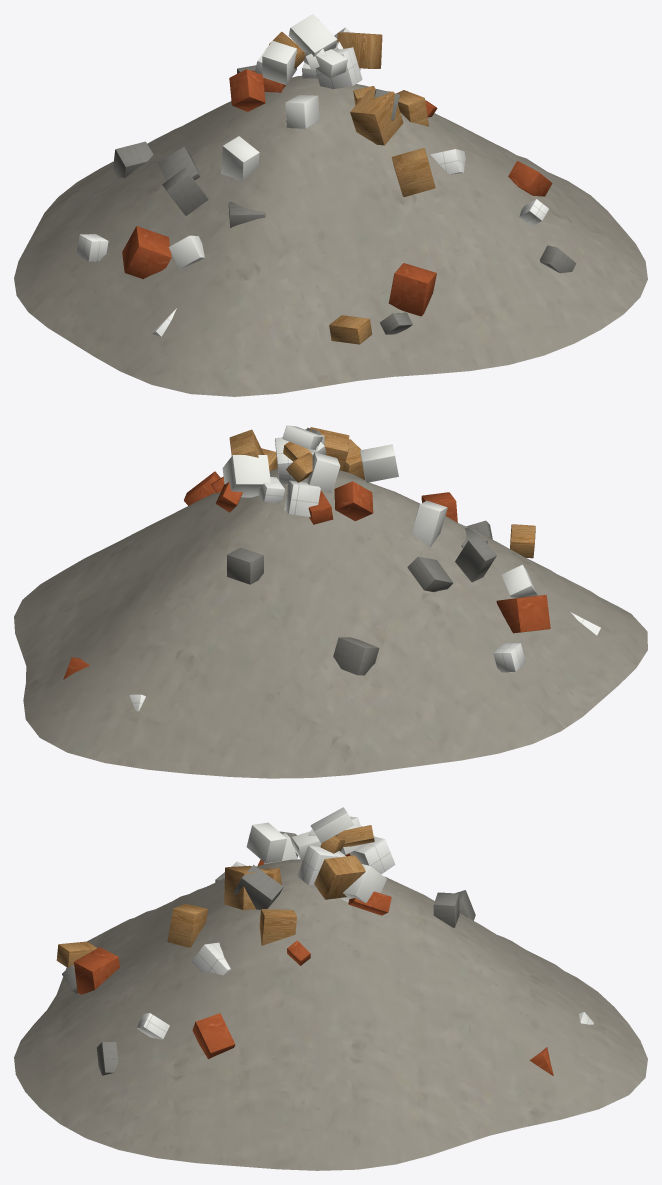
The model's file is LIM-ENT-001_lod1.glb.
3 renders of one model, top to bottom at view 1: azimuth 30°, elevation 25°; view 2: azimuth 150°, elevation 25°; view 3: azimuth 270°, elevation 25°, orthographic.
Parts seen in each view (by area): view 1: LIM-ENT-001_monte, LIM-ENT-001_caco32, LIM-ENT-001_caco21, LIM-ENT-001_caco31, LIM-ENT-001_caco22, LIM-ENT-001_caco14, LIM-ENT-001_caco4, LIM-ENT-001_caco1, LIM-ENT-001_caco39, LIM-ENT-001_caco12, LIM-ENT-001_caco15, LIM-ENT-001_caco19 (+12 smaller); view 2: LIM-ENT-001_monte, LIM-ENT-001_caco34, LIM-ENT-001_caco21, LIM-ENT-001_caco10, LIM-ENT-001_caco1, LIM-ENT-001_caco15, LIM-ENT-001_caco19, LIM-ENT-001_caco14, LIM-ENT-001_caco25, LIM-ENT-001_caco5, LIM-ENT-001_caco13, LIM-ENT-001_caco39 (+12 smaller); view 3: LIM-ENT-001_monte, LIM-ENT-001_caco12, LIM-ENT-001_caco31, LIM-ENT-001_caco22, LIM-ENT-001_caco16, LIM-ENT-001_caco19, LIM-ENT-001_caco0, LIM-ENT-001_caco2, LIM-ENT-001_caco32, LIM-ENT-001_caco13, LIM-ENT-001_caco34, LIM-ENT-001_caco38 (+8 smaller).
Part boxes in pixels (x1,y1,x2,y2): LIM-ENT-001_monte: (14,75,647,396); LIM-ENT-001_caco32: (350,89,403,145); LIM-ENT-001_caco21: (122,226,171,279); LIM-ENT-001_caco31: (388,263,436,316); LIM-ENT-001_caco22: (391,148,435,196); LIM-ENT-001_caco14: (221,136,259,181); LIM-ENT-001_caco4: (288,14,337,56); LIM-ENT-001_caco1: (229,69,265,111); LIM-ENT-001_caco39: (262,40,296,85); LIM-ENT-001_caco12: (337,32,382,68); LIM-ENT-001_caco15: (162,168,208,215); LIM-ENT-001_caco19: (285,95,319,128); LIM-ENT-001_monte: (14,469,647,778); LIM-ENT-001_caco34: (222,455,270,497); LIM-ENT-001_caco21: (496,595,550,633); LIM-ENT-001_caco10: (333,637,379,675); LIM-ENT-001_caco1: (334,481,373,521); LIM-ENT-001_caco15: (455,535,496,582); LIM-ENT-001_caco19: (360,444,398,482); LIM-ENT-001_caco14: (412,500,447,547); LIM-ENT-001_caco25: (227,547,263,584); LIM-ENT-001_caco5: (407,556,453,591); LIM-ENT-001_caco13: (284,480,320,517); LIM-ENT-001_caco39: (305,452,340,493); LIM-ENT-001_monte: (14,859,647,1170); LIM-ENT-001_caco12: (314,855,365,899); LIM-ENT-001_caco31: (74,947,119,994); LIM-ENT-001_caco22: (167,903,208,947); LIM-ENT-001_caco16: (192,1013,235,1059); LIM-ENT-001_caco19: (246,822,286,863); LIM-ENT-001_caco0: (233,864,283,909); LIM-ENT-001_caco2: (259,909,296,945); LIM-ENT-001_caco32: (224,865,269,910); LIM-ENT-001_caco13: (350,836,395,874); LIM-ENT-001_caco34: (341,864,386,902); LIM-ENT-001_caco38: (297,845,345,885).
Bounding box in the file's own units: 1.74 × 0.716 × 1.78.
6 materials, 5 textured.
